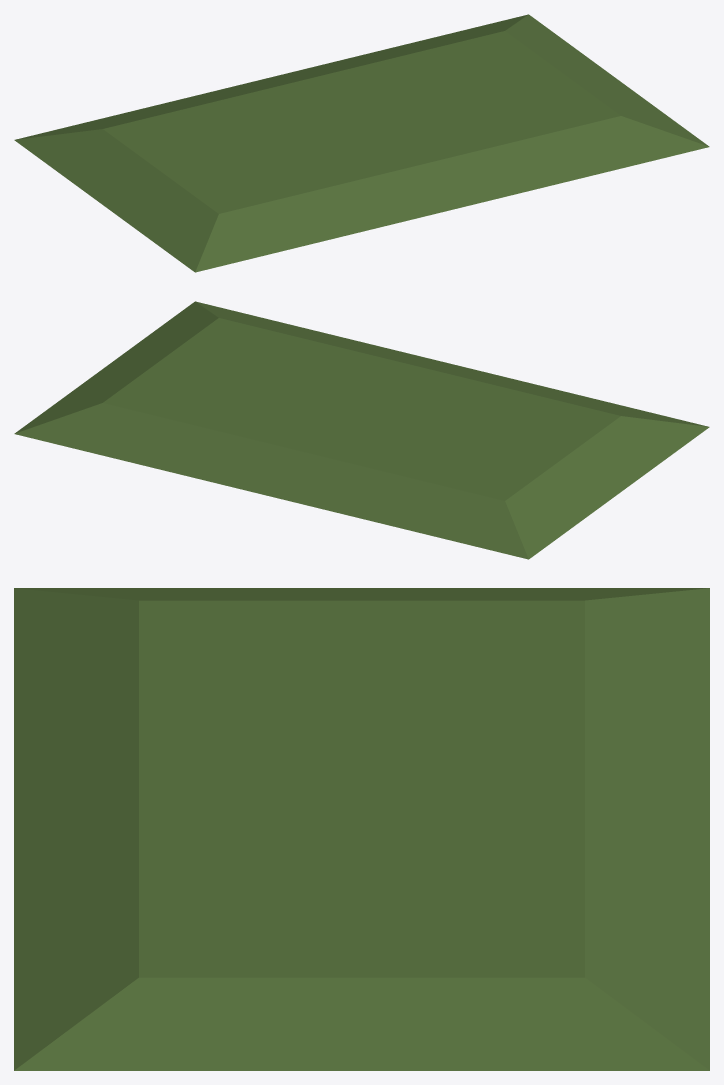
The model's file is start_location.gltf.
3 views of the same model, one above another, from view 1: azimuth 30°, elevation 25°; view 2: azimuth 150°, elevation 25°; view 3: azimuth 270°, elevation 25° (orthographic). The views are drawn at different scales.
Visible parts, largest first — view 1: start.location; view 2: start.location; view 3: start.location.
Part boxes in pixels (x1,y1,x2,y2): start.location: (14, 14, 709, 272); start.location: (14, 301, 709, 559); start.location: (14, 588, 709, 1070).
Size of the model in its own units: 3.59 by 0.14 by 2.18.
